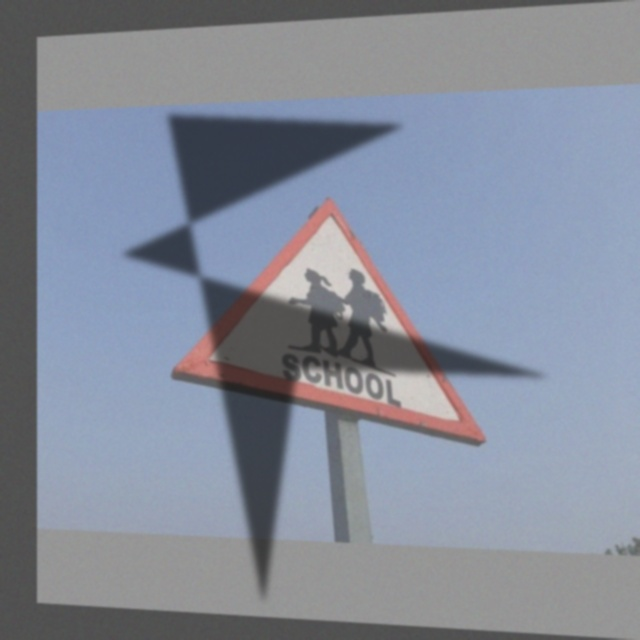School_Ahead: (203, 193, 468, 441)
